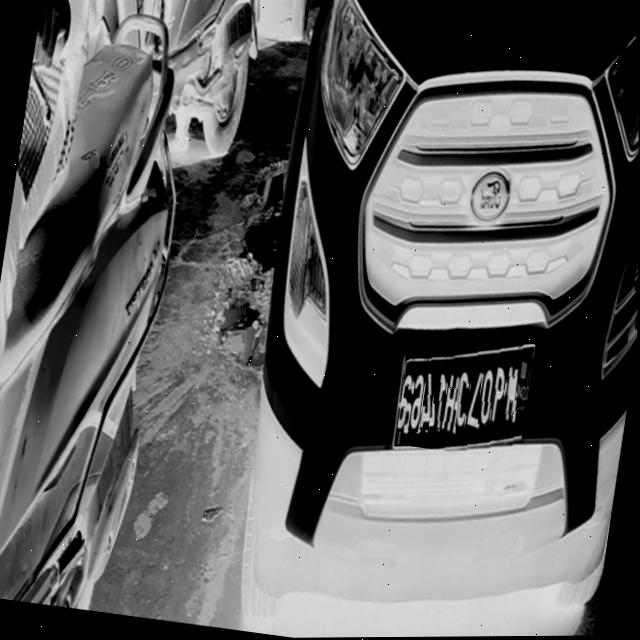0: (477, 368, 497, 426)
1: (432, 373, 449, 431)
4: (420, 373, 438, 432)
6: (408, 374, 427, 433), (397, 374, 415, 433)
7: (465, 368, 484, 430)
C: (453, 371, 472, 432)
H: (442, 371, 461, 433)
IND: (514, 360, 532, 403)
Indian_registered: (397, 345, 535, 449)
M: (502, 366, 520, 424)
P: (490, 367, 509, 426)
